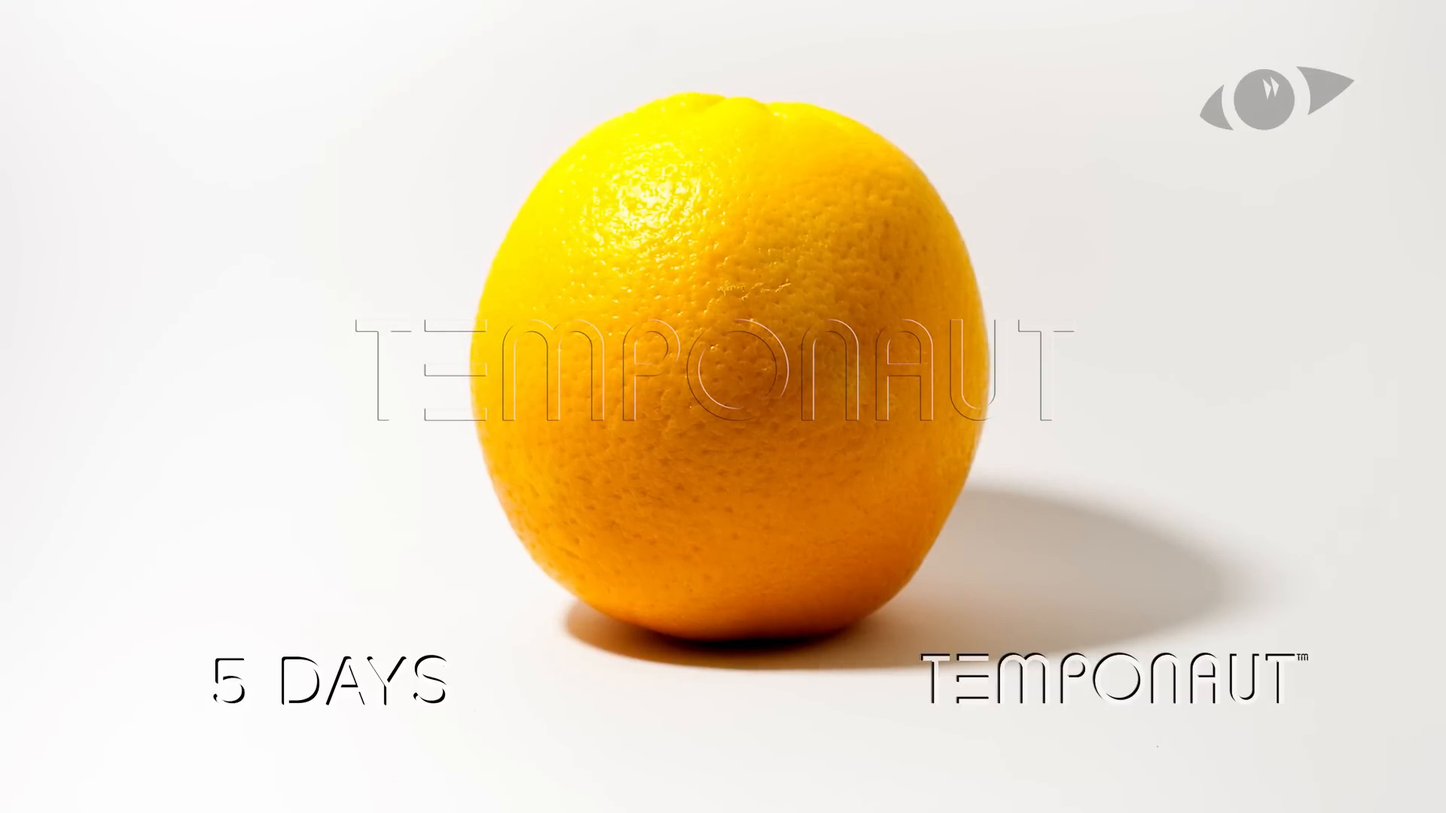orange_fresh: (466, 91, 992, 646)
